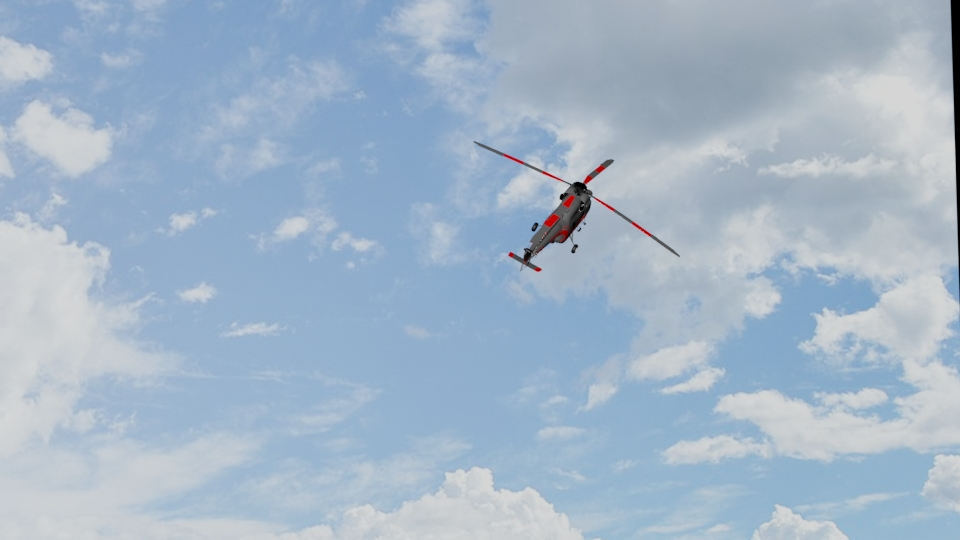heli: (501, 149, 617, 276)
